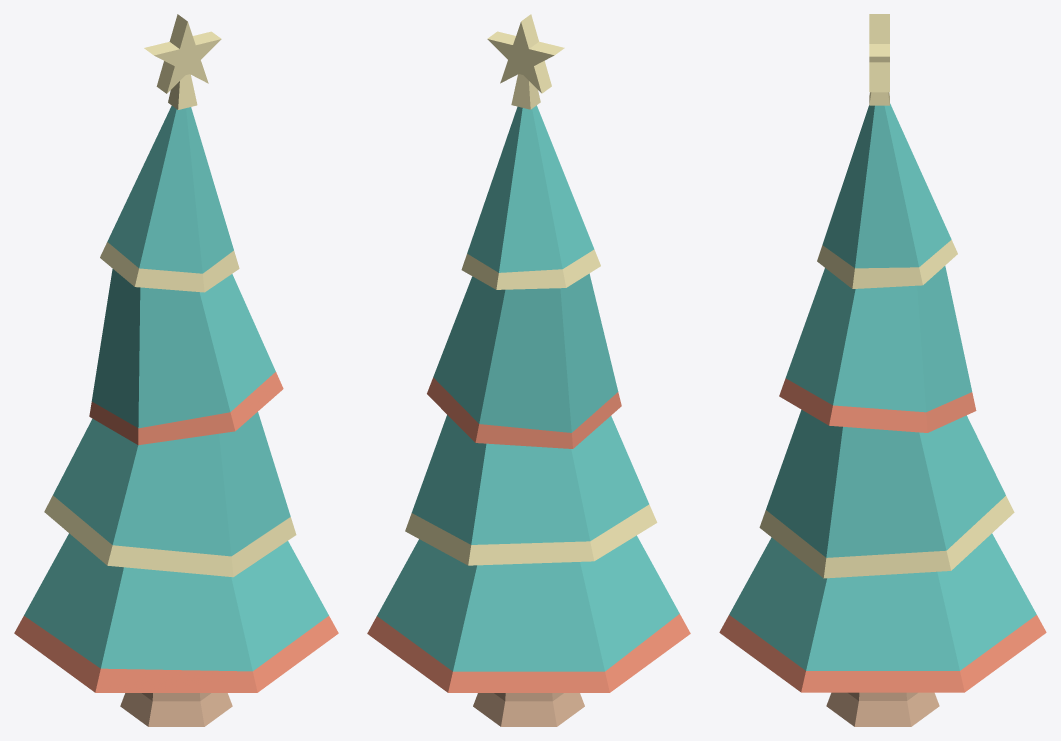
File: treeDecorated.glb
3 views of the same model, side by side, from view 1: azimuth 30°, elevation 25°; view 2: azimuth 150°, elevation 25°; view 3: azimuth 270°, elevation 25° (orthographic).
Parts seen in each view (by area): view 1: Mesh treeDecorated, star; view 2: Mesh treeDecorated, star; view 3: Mesh treeDecorated, star.
Part boxes in pixels (x1,y1,x2,y2): Mesh treeDecorated: (14,106,338,726); star: (144,14,221,109); Mesh treeDecorated: (367,105,690,726); star: (487,14,564,109); Mesh treeDecorated: (719,103,1046,726); star: (869,14,889,105).
Size of the model in its own units: 0.651 by 1.76 by 0.7517.
